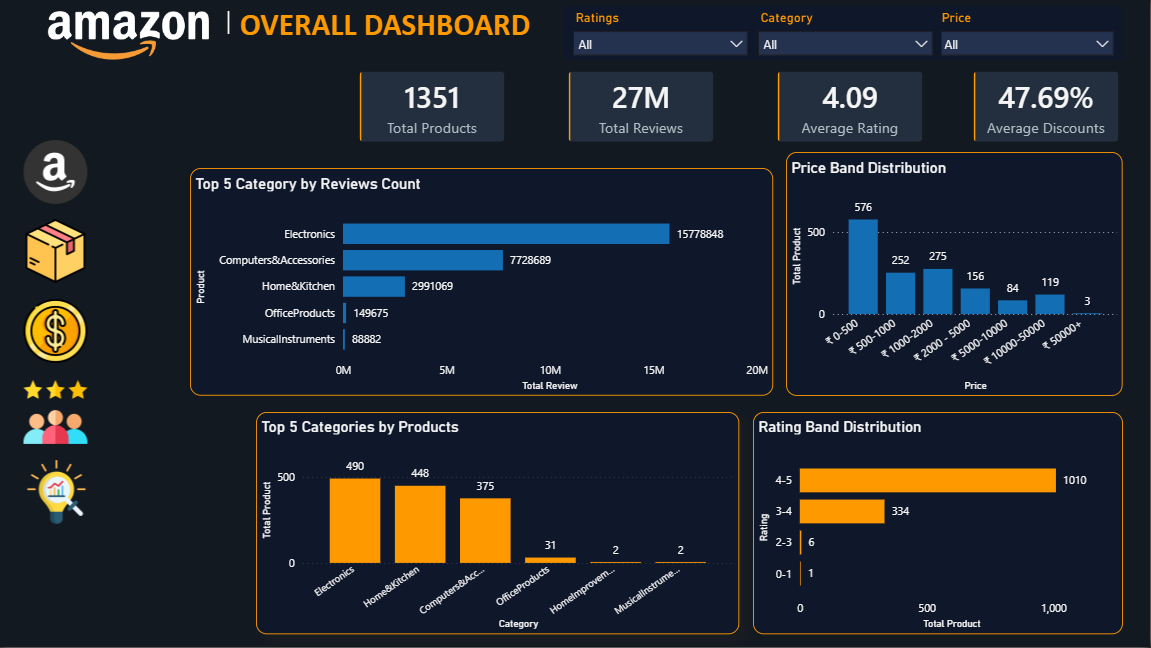

The dashboard page shown, as its layout file describes it:
{"tool":"powerbi","page":{"name":"Overall","canvas":[1280,720],"ordinal":0},"visuals":[{"type":"slicer","fields":{"Values":["amazon.sale-price_bands"]},"box":[1035.5,7.8,214.4,60],"z":0,"group":"g3"},{"type":"image","box":[24.4,13.3,241.1,54.4],"z":0,"group":"g4"},{"type":"cardVisual","fields":{"Data":["Count(amazon.product_id)"]},"box":[396.7,75.6,171.1,88.9],"z":0,"group":"g2"},{"type":"group","id":"g1","title":"Slides","box":[23.3,156.7,82.2,426.7],"z":0},{"type":"image","box":[23.3,156.7,81.5,71.2],"z":0,"group":"g1"},{"type":"shape","box":[256.6,0,346.7,56.7],"z":1000,"group":"g4"},{"type":"slicer","fields":{"Values":["amazon.rating_band"]},"box":[628.9,7.8,214.4,60],"z":1000},{"type":"slicer","fields":{"Values":["amazon.main_category","amazon.sub_category"]},"box":[834.4,7.8,214.4,60],"z":1000,"group":"g3"},{"type":"group","id":"g2","title":"KPI","box":[396.7,75.6,853.3,88.9],"z":1000},{"type":"cardVisual","fields":{"Data":["Sum(amazon.rating_count)"]},"box":[628.9,75.6,171.1,88.9],"z":1000,"group":"g2"},{"type":"image","box":[24.4,512.3,81.5,71.2],"z":1000,"group":"g1"},{"type":"shape","box":[92.2,13.3,327.8,25.6],"z":2000,"group":"g4"},{"type":"cardVisual","fields":{"Data":["Avg(amazon.rating)"]},"box":[861.1,75.6,171.1,88.9],"z":2000,"group":"g2"},{"type":"image","box":[23.3,244.5,81.5,71.2],"z":2000,"group":"g1"},{"type":"clusteredColumnChart","title":"Top 5 Categories by Products","fields":{"Category":["amazon.main_category"],"Y":["Count(amazon.product_id)"]},"box":[286.7,458.9,536.7,246.7],"z":2000},{"type":"cardVisual","fields":{"Data":["Avg(amazon.discount_pct)"]},"box":[1078.9,75.6,171.1,88.9],"z":3000,"group":"g2"},{"type":"clusteredBarChart","title":"Top 5 Category by Reviews Count","fields":{"Category":["amazon.main_category"],"Y":["Sum(amazon.rating_count)"]},"box":[213.3,187.8,647.8,253.3],"z":3000},{"type":"image","box":[23.3,333.2,81.5,71.2],"z":3000,"group":"g1"},{"type":"clusteredColumnChart","title":"Price Band Distribution","fields":{"Y":["CountNonNull(amazon.product_id)"],"Category":["amazon.sale-price_bands"]},"box":[875.6,170,374.4,271.1],"z":4000},{"type":"image","box":[23.3,423.4,81.5,71.2],"z":4000,"group":"g1"},{"type":"clusteredBarChart","title":"Rating Band Distribution","fields":{"Category":["amazon.rating_band"],"Y":["Count(amazon.product_id)"]},"box":[838.9,458.9,411.1,246.7],"z":5000},{"type":"group","id":"g3","title":"Slicer","box":[834.4,7.8,415.6,60],"z":6000},{"type":"group","id":"g4","title":"Header Icon","box":[24.4,0,578.9,67.8],"z":7000}]}

Visuals, with their boxes in screenshot pixels (x1, y1, x2, y2), scaled from the page's 1280x720 canvas onto the 1151x648 screenshot:
slicer - amazon.sale-price_bands: rect(931, 7, 1124, 61)
image: rect(22, 12, 239, 61)
cardVisual - Count(amazon.product_id): rect(357, 68, 511, 148)
"Slides" group: rect(21, 141, 95, 525)
image: rect(21, 141, 94, 205)
shape: rect(231, 0, 542, 51)
slicer - amazon.rating_band: rect(566, 7, 758, 61)
slicer - amazon.main_category x amazon.sub_category: rect(750, 7, 943, 61)
"KPI" group: rect(357, 68, 1124, 148)
cardVisual - Sum(amazon.rating_count): rect(566, 68, 719, 148)
image: rect(22, 461, 95, 525)
shape: rect(83, 12, 378, 35)
cardVisual - Avg(amazon.rating): rect(774, 68, 928, 148)
image: rect(21, 220, 94, 284)
"Top 5 Categories by Products" clusteredColumnChart: rect(258, 413, 740, 635)
cardVisual - Avg(amazon.discount_pct): rect(970, 68, 1124, 148)
"Top 5 Category by Reviews Count" clusteredBarChart: rect(192, 169, 774, 397)
image: rect(21, 300, 94, 364)
"Price Band Distribution" clusteredColumnChart: rect(787, 153, 1124, 397)
image: rect(21, 381, 94, 445)
"Rating Band Distribution" clusteredBarChart: rect(754, 413, 1124, 635)
"Slicer" group: rect(750, 7, 1124, 61)
"Header Icon" group: rect(22, 0, 542, 61)
